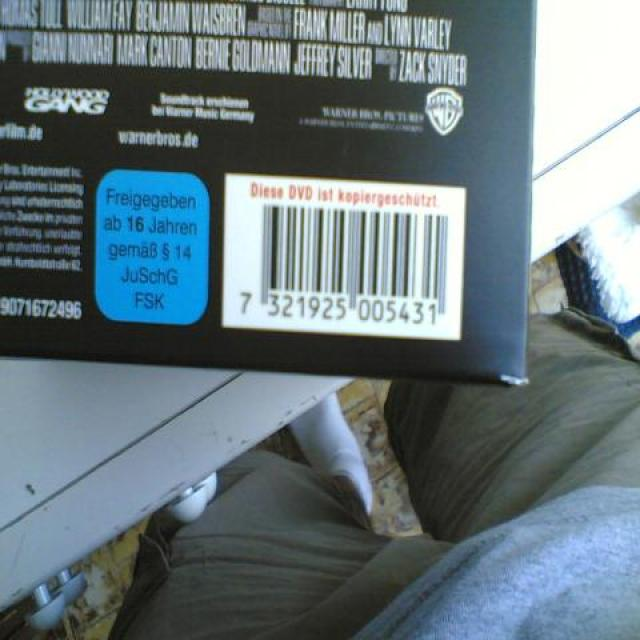Barcode: (222, 171, 467, 340)
